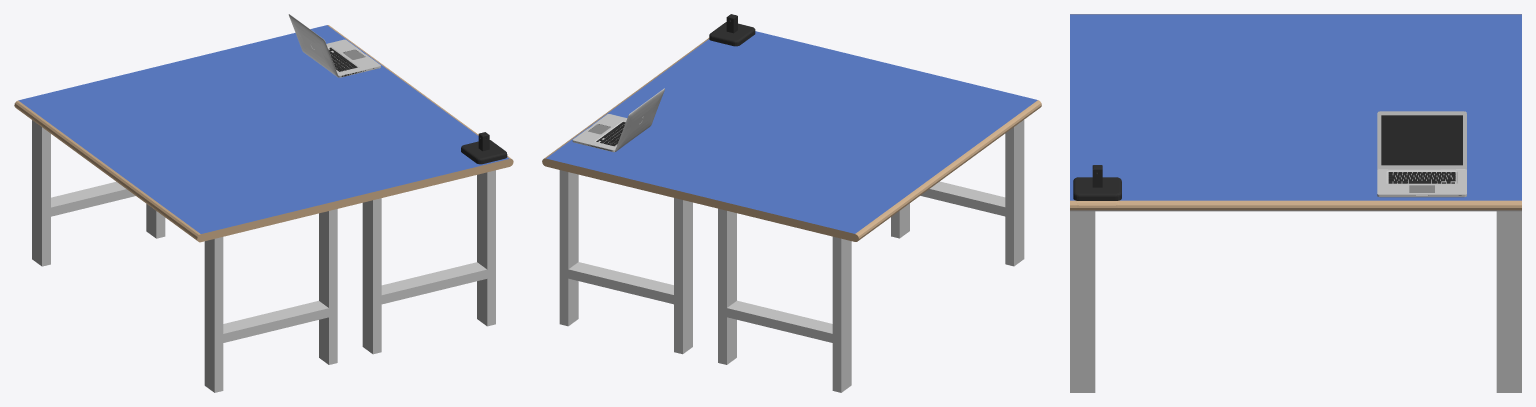
File: jaco_lab_scene.dae
3 views of the same model, side by side, from view 1: azimuth 30°, elevation 25°; view 2: azimuth 150°, elevation 25°; view 3: azimuth 270°, elevation 25° (orthographic). The views are drawn at different scales.
Parts seen in each view (by area): view 1: jaco_lab_scene; view 2: jaco_lab_scene; view 3: jaco_lab_scene.
Boxes of the visible parts, bbox=[...] form: jaco_lab_scene: bbox=[14, 14, 513, 392]; jaco_lab_scene: bbox=[542, 14, 1041, 392]; jaco_lab_scene: bbox=[1070, 14, 1521, 392].
Size of the model in its own units: 1.83 by 1.83 by 1.13.
